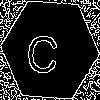C: (25, 25, 60, 75)
